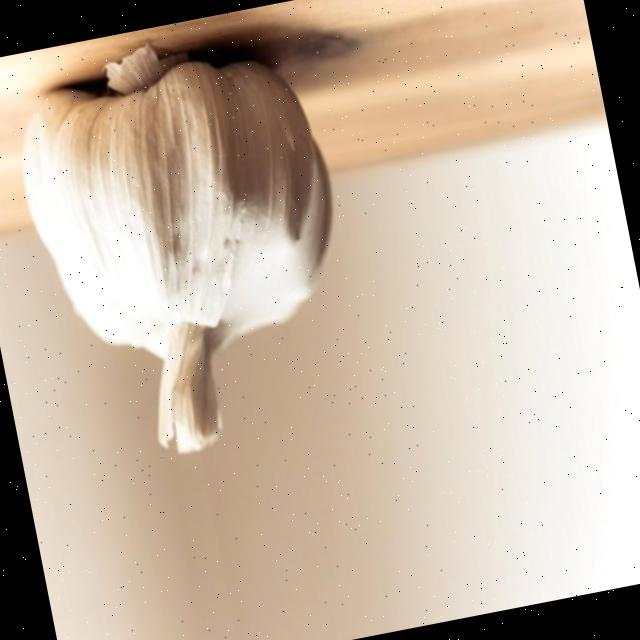garlic: (23, 47, 330, 452)
